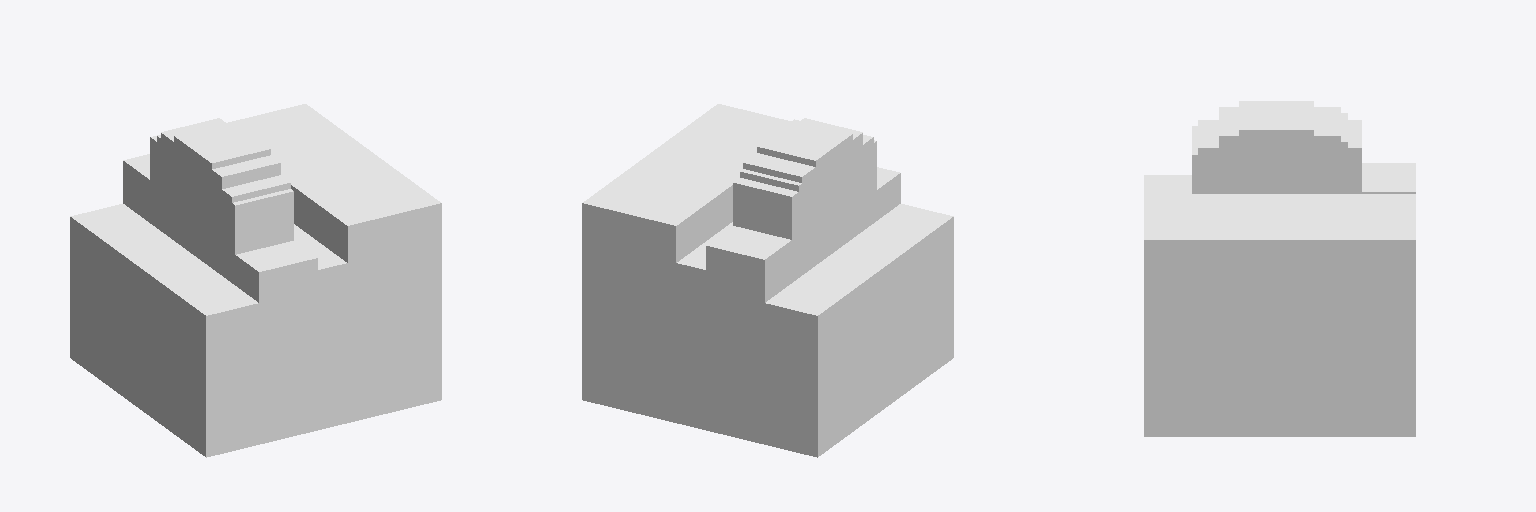
File: GradeTable.obj
3 views of the same model, side by side, from view 1: azimuth 30°, elevation 25°; view 2: azimuth 150°, elevation 25°; view 3: azimuth 270°, elevation 25° (orthographic).
Visible parts, largest first — view 1: object 1; view 2: object 1; view 3: object 1.
Part boxes in pixels (x1,y1,x2,y2): object 1: (70,104,441,457); object 1: (582,104,953,457); object 1: (1144,101,1415,436).
Size of the model in its own units: 4 by 4 by 4.